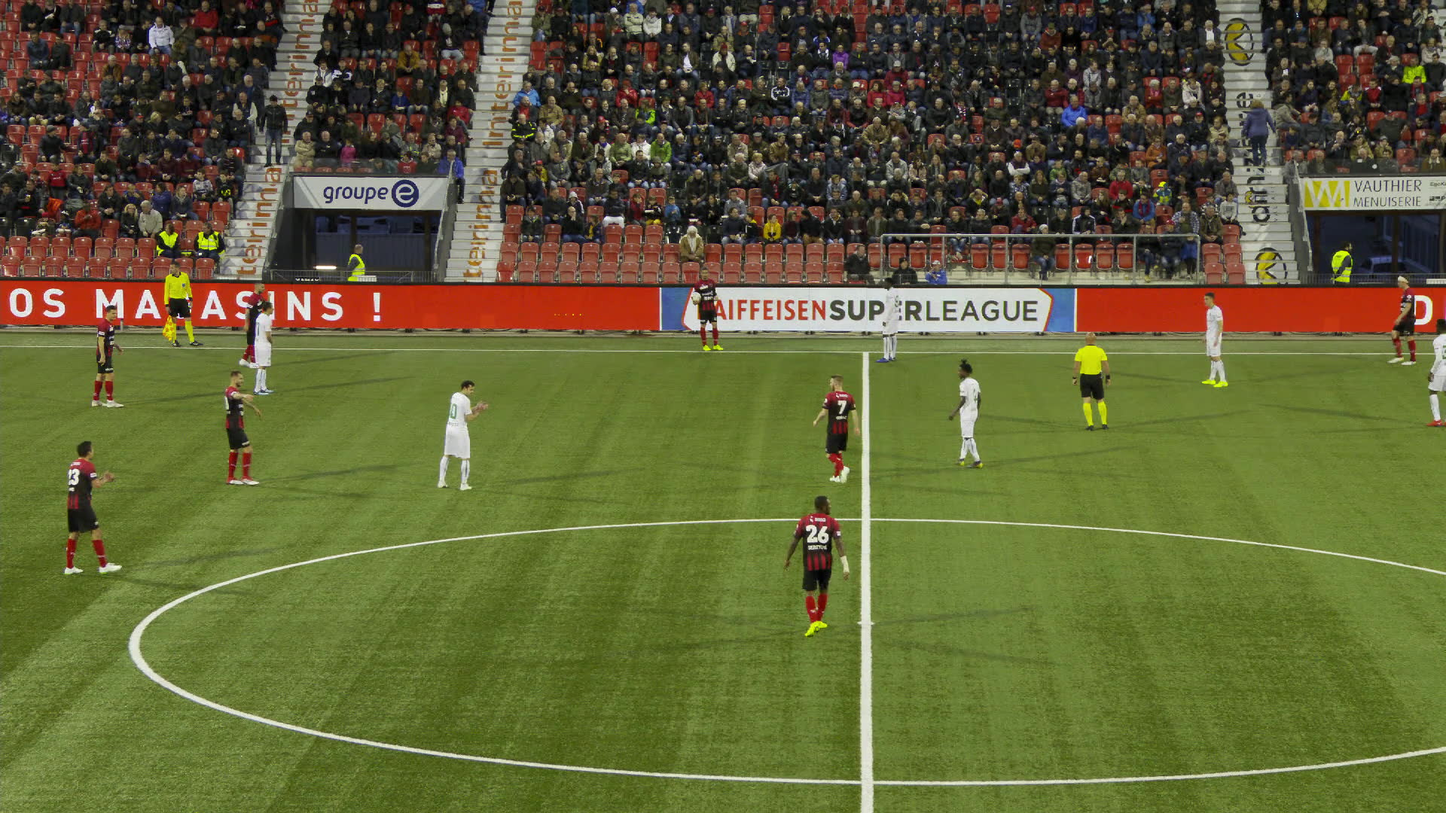ball: (691, 292, 700, 301)
player: (784, 495, 848, 635), (64, 440, 122, 575), (438, 380, 488, 491), (813, 374, 859, 483), (224, 370, 261, 485), (948, 358, 981, 467), (91, 305, 124, 406), (691, 266, 723, 350), (1201, 291, 1228, 387), (1387, 276, 1416, 365), (239, 281, 264, 368), (1425, 318, 1445, 425), (874, 277, 898, 362), (252, 302, 273, 394)
referee: (1071, 331, 1109, 429), (162, 261, 203, 346)
